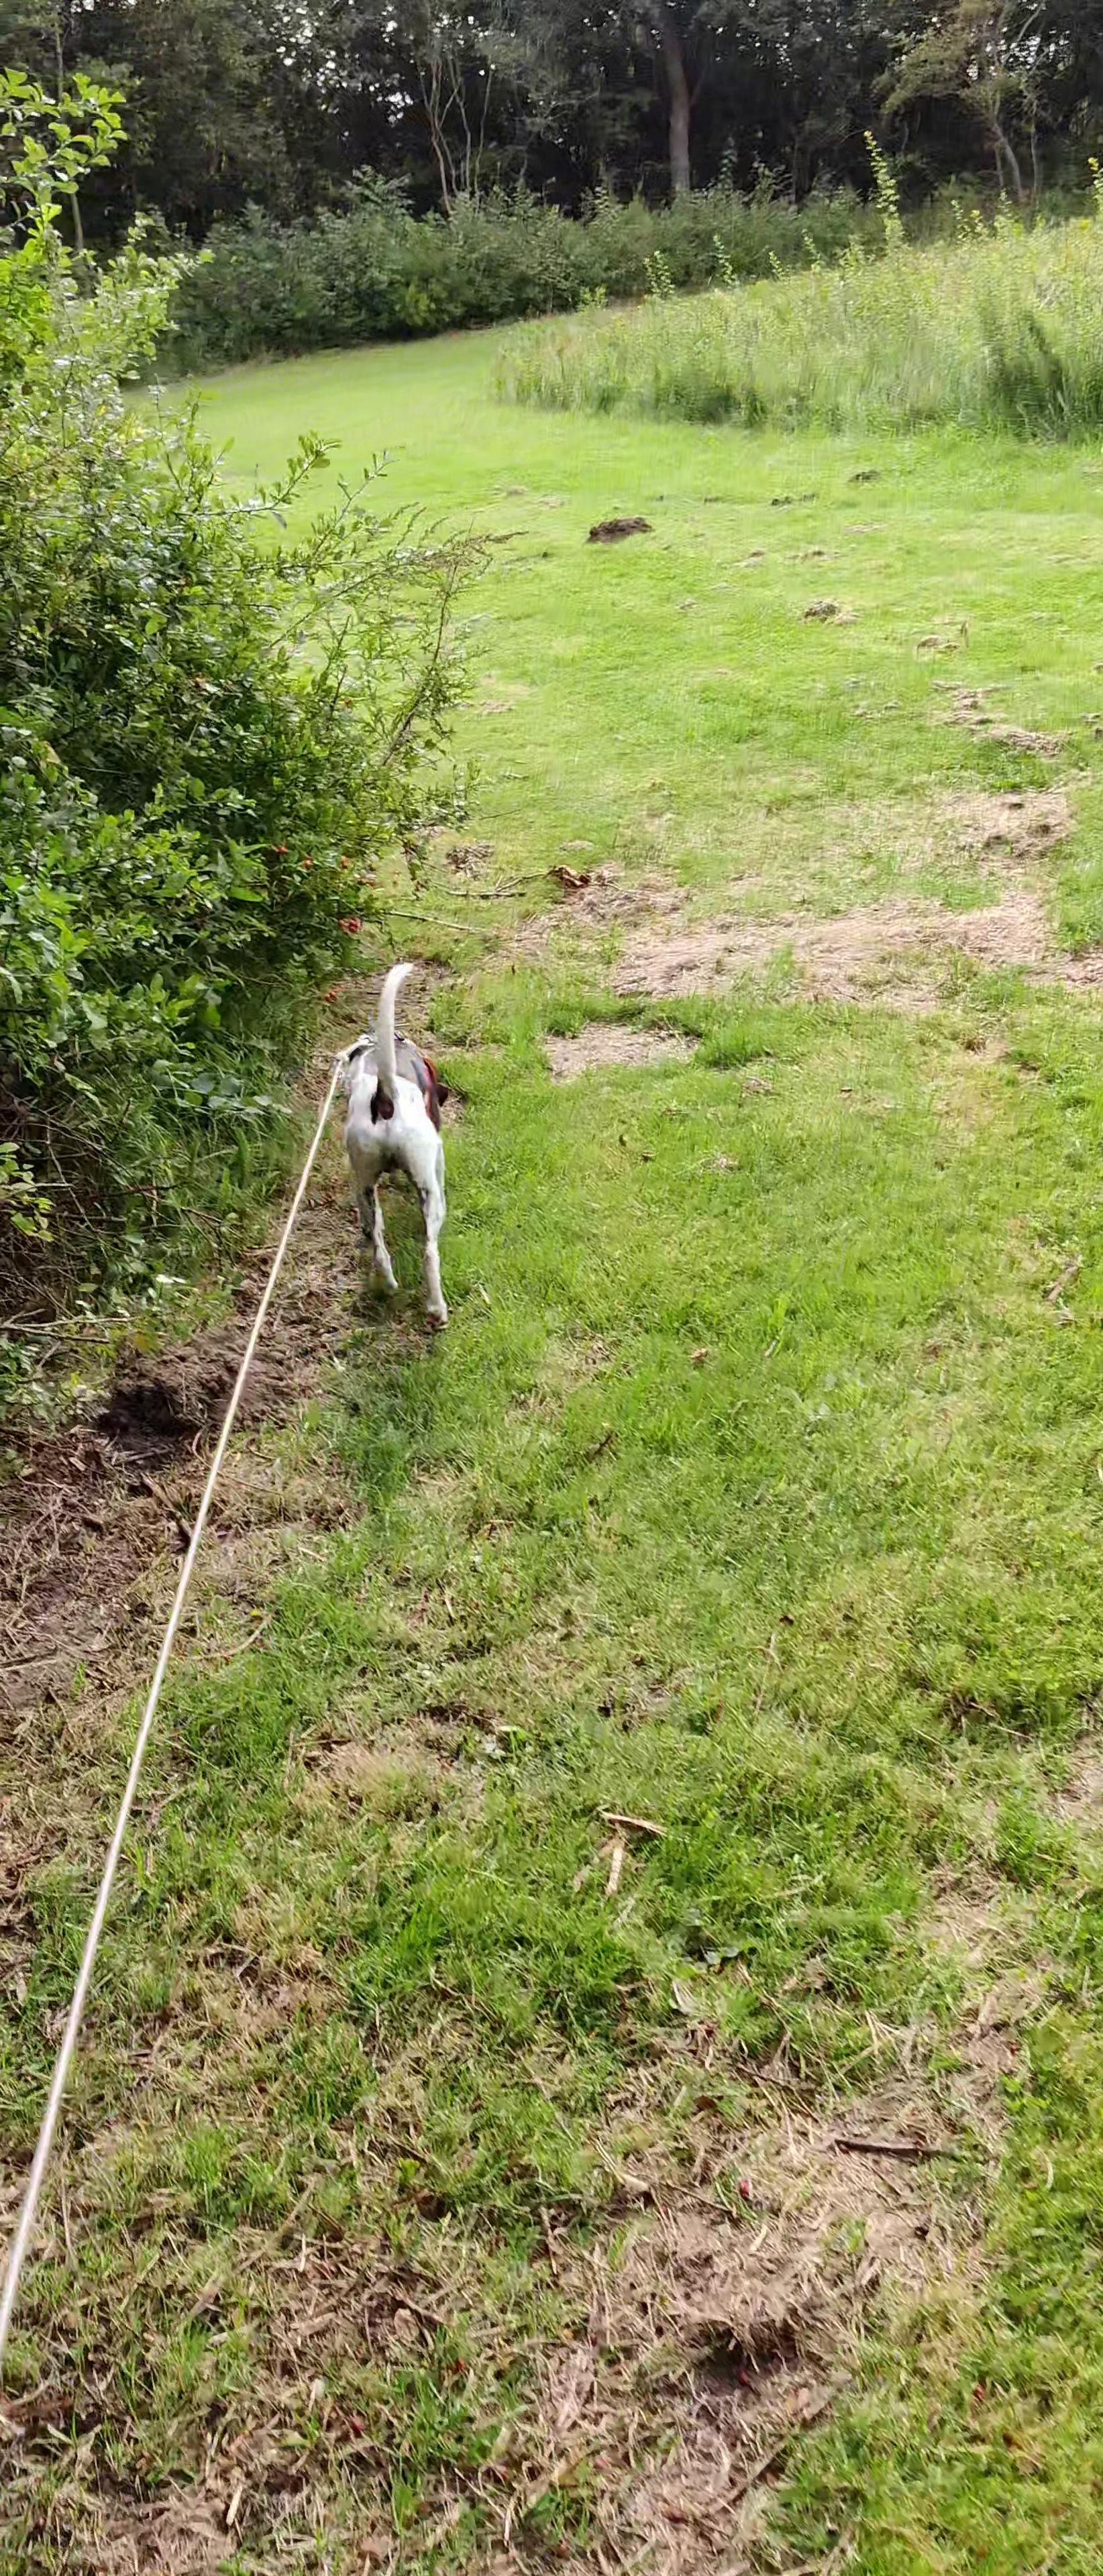Dog: (324, 951, 475, 1342)
